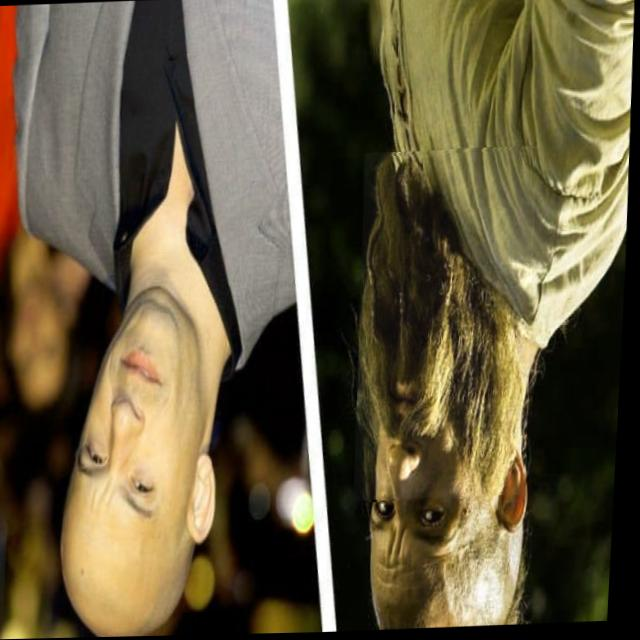beard: (363, 155, 531, 497)
